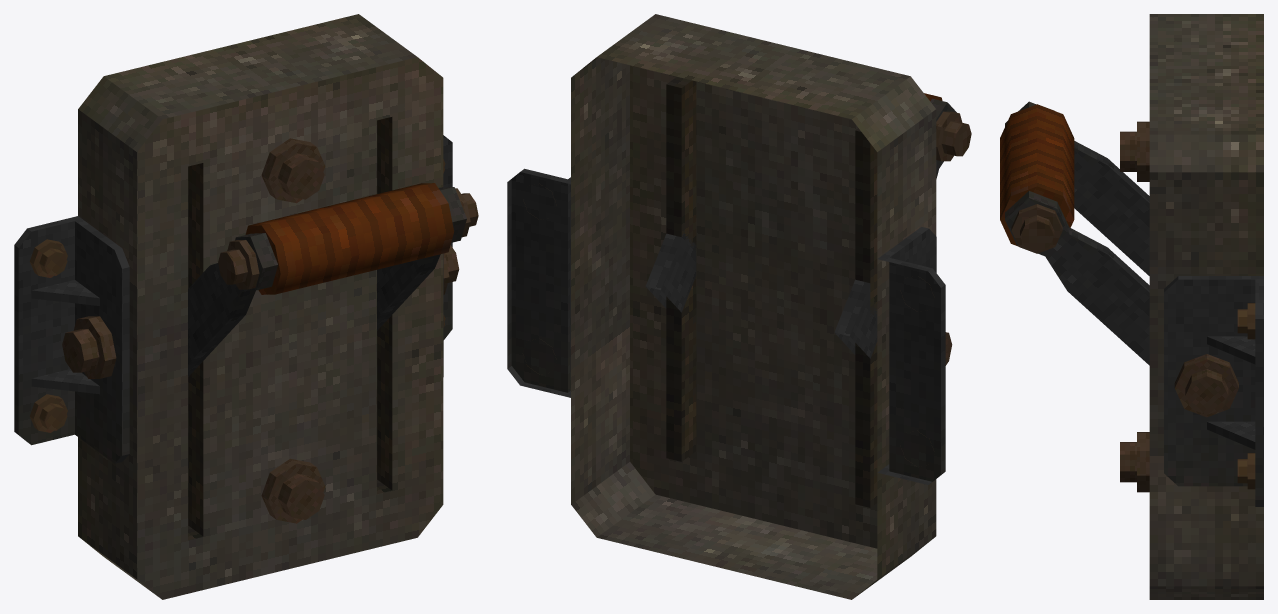
File: lever_etx_2.glb
3 views of the same model, side by side, from view 1: azimuth 30°, elevation 25°; view 2: azimuth 150°, elevation 25°; view 3: azimuth 270°, elevation 25° (orthographic). The views are drawn at different scales.
Visible parts, largest first — view 1: lever_etx_2, lever_etx_2_child; view 2: lever_etx_2, lever_etx_2_child; view 3: lever_etx_2, lever_etx_2_child.
Part boxes in pixels (x1=…): lever_etx_2: x1=14, y1=14, x2=459, y2=599; lever_etx_2_child: x1=188, y1=183, x2=478, y2=376; lever_etx_2: x1=507, y1=14, x2=952, y2=599; lever_etx_2_child: x1=645, y1=93, x2=971, y2=358; lever_etx_2: x1=1120, y1=14, x2=1263, y2=599; lever_etx_2_child: x1=1000, y1=101, x2=1149, y2=365.
Bounding box in the file's own units: 0.306 × 0.324 × 0.1665.
Materials: 1 (1 with a texture image).
